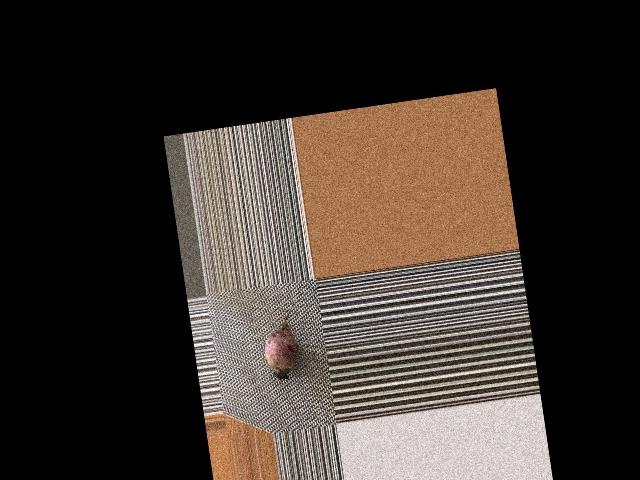beet: (257, 291, 316, 384)
